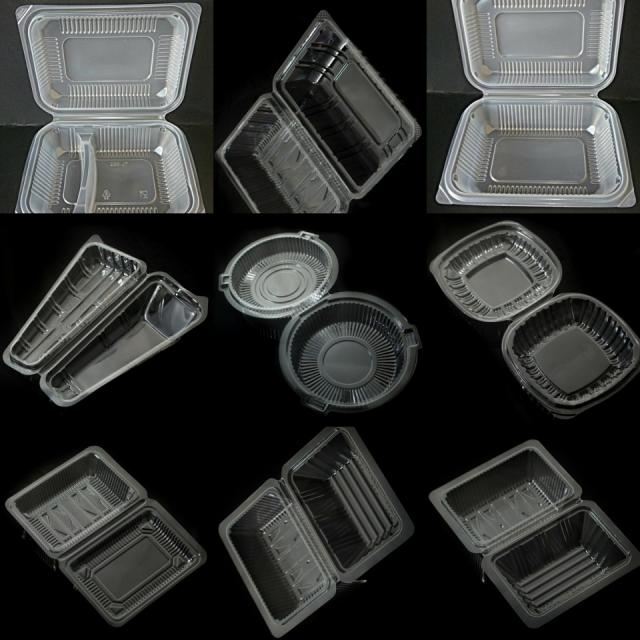Single-Use-Plastic: (436, 0, 636, 207), (430, 221, 640, 418), (216, 10, 420, 212), (220, 428, 414, 636), (430, 440, 640, 628), (16, 4, 202, 212), (220, 231, 420, 412), (6, 446, 205, 626), (4, 235, 208, 406)
